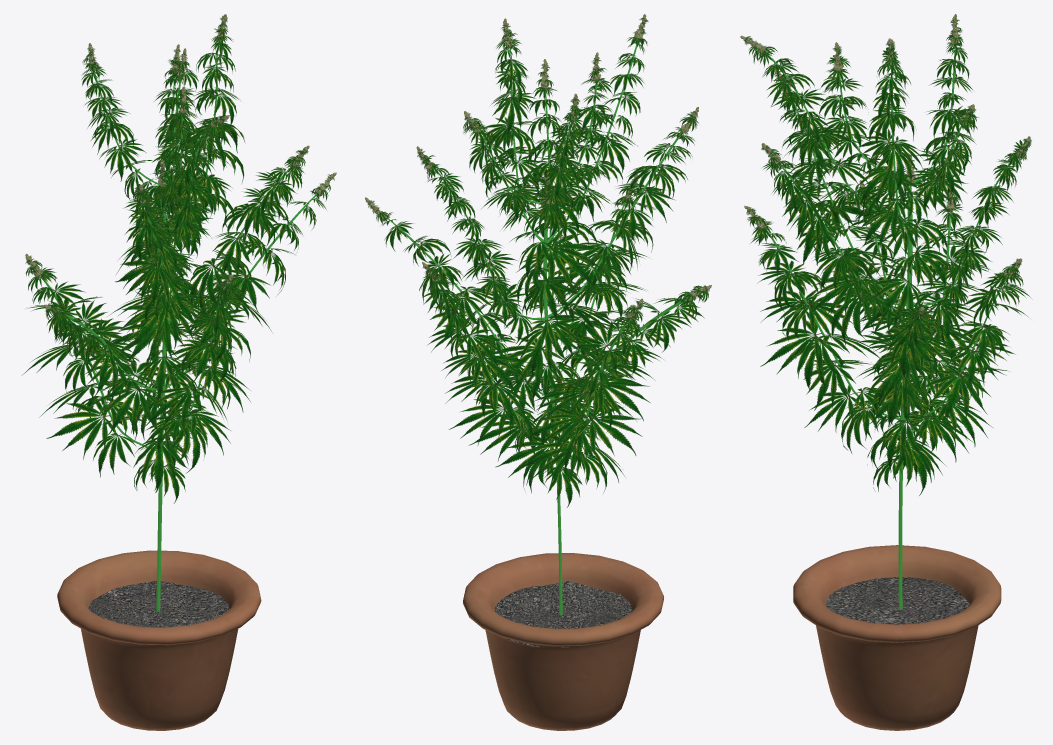
The model's file is plant.glb.
The picture shows the model from 3 angles, left to right: view 1: azimuth 30°, elevation 25°; view 2: azimuth 150°, elevation 25°; view 3: azimuth 270°, elevation 25°; orthographic projection. The views are drawn at different scales.
Visible parts, largest first — view 1: Object_3, Object_13, Object_2, Object_7, Object_8; view 2: Object_3, Object_13, Object_2, Object_7, Object_8; view 3: Object_3, Object_13, Object_2, Object_7, Object_8.
Boxes of the visible parts, x1,y1,x2,y2 form: Object_3: [22, 17, 334, 503]; Object_13: [57, 550, 261, 730]; Object_2: [88, 581, 229, 627]; Object_7: [41, 43, 323, 611]; Object_8: [25, 14, 336, 315]; Object_3: [367, 18, 709, 507]; Object_13: [463, 553, 663, 730]; Object_2: [494, 581, 632, 647]; Object_7: [387, 41, 693, 615]; Object_8: [365, 14, 711, 320]; Object_3: [743, 19, 1031, 495]; Object_13: [793, 545, 1001, 730]; Object_2: [826, 577, 969, 624]; Object_7: [765, 24, 1013, 609]; Object_8: [740, 14, 1030, 318].
Size of what is drawn, in the model's own units: 154 by 312 by 121.
Materials: 5 (4 with a texture image).
